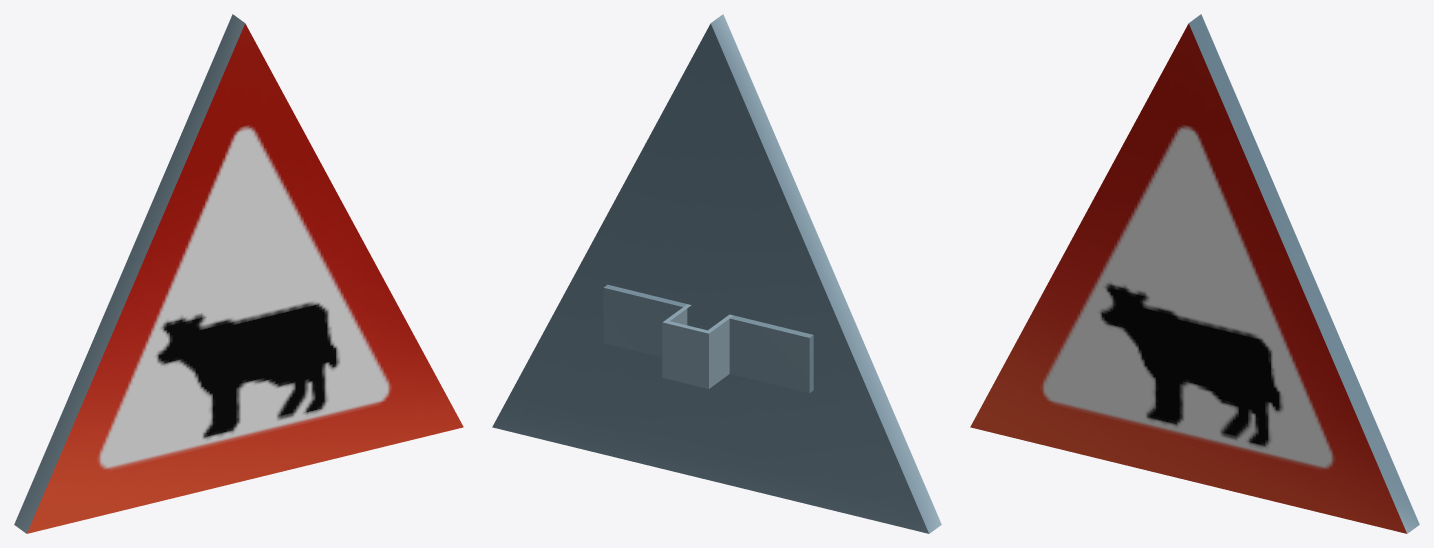
File: Sign11Austrian.fbx
The picture shows the model from 3 angles, left to right: view 1: azimuth 30°, elevation 25°; view 2: azimuth 150°, elevation 25°; view 3: azimuth 330°, elevation 25°; orthographic projection.
Visible parts, largest first — view 1: Sign11Austrian; view 2: Sign11Austrian; view 3: Sign11Austrian.
Part boxes in pixels (left/top/right/bottom): Sign11Austrian: left=14, top=14, right=463, bottom=533; Sign11Austrian: left=492, top=14, right=941, bottom=533; Sign11Austrian: left=970, top=14, right=1419, bottom=533.
Bounding box in the file's own units: 1 × 1 × 0.1489.
